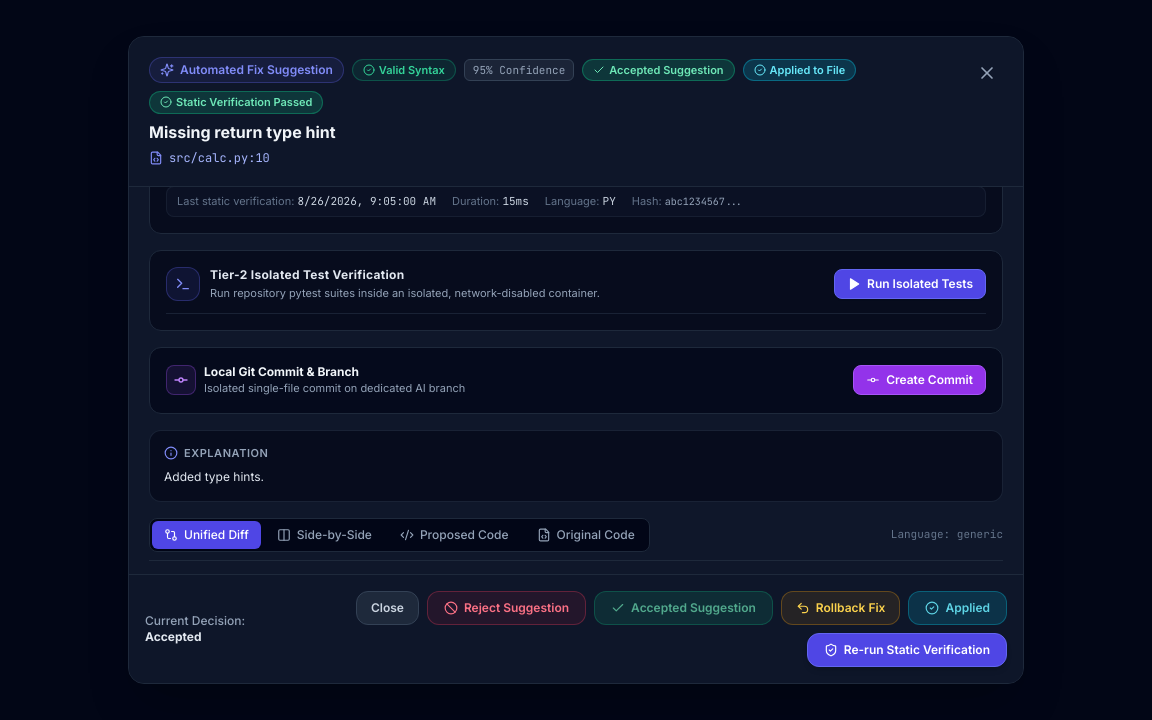
Test: Phase 11.5B-3 — Local Git Commit Frontend UI › 11. Stale Source Error: 409 stale source displays Source Changed Since Apply
(page scrolled)
Click the button with id "btn-open-create-commit": (920, 380) [853,365,986,395]
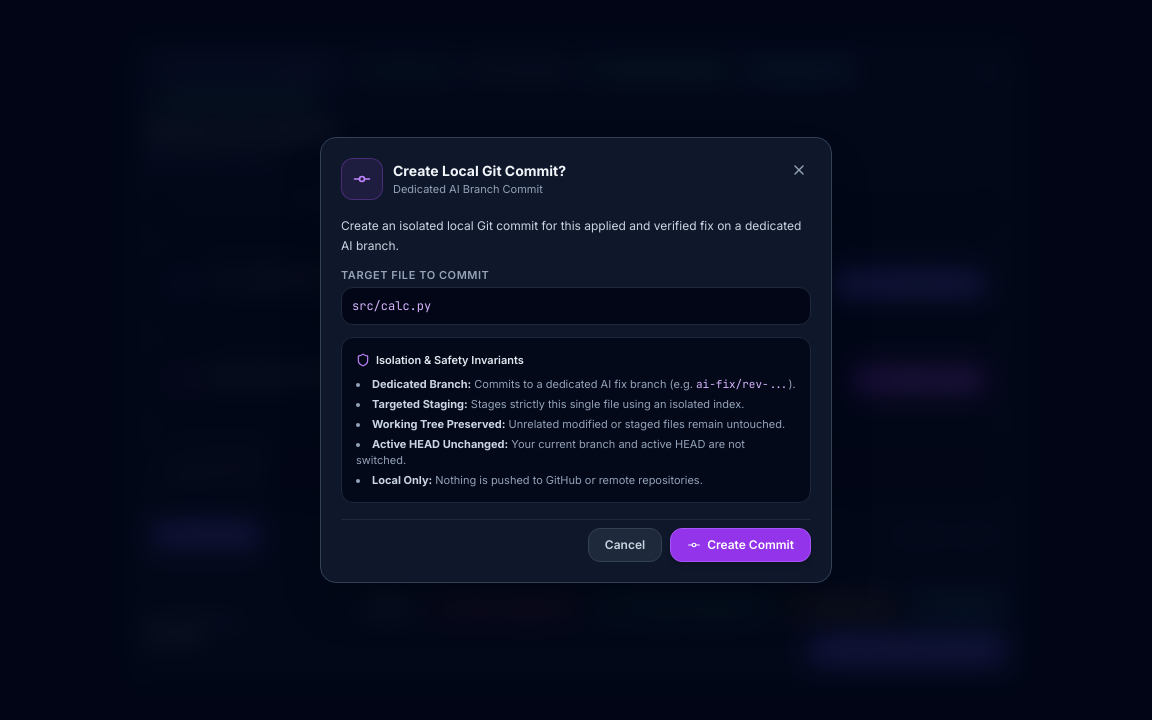
Click the button with id "btn-confirm-commit": (741, 545) [670,528,811,562]
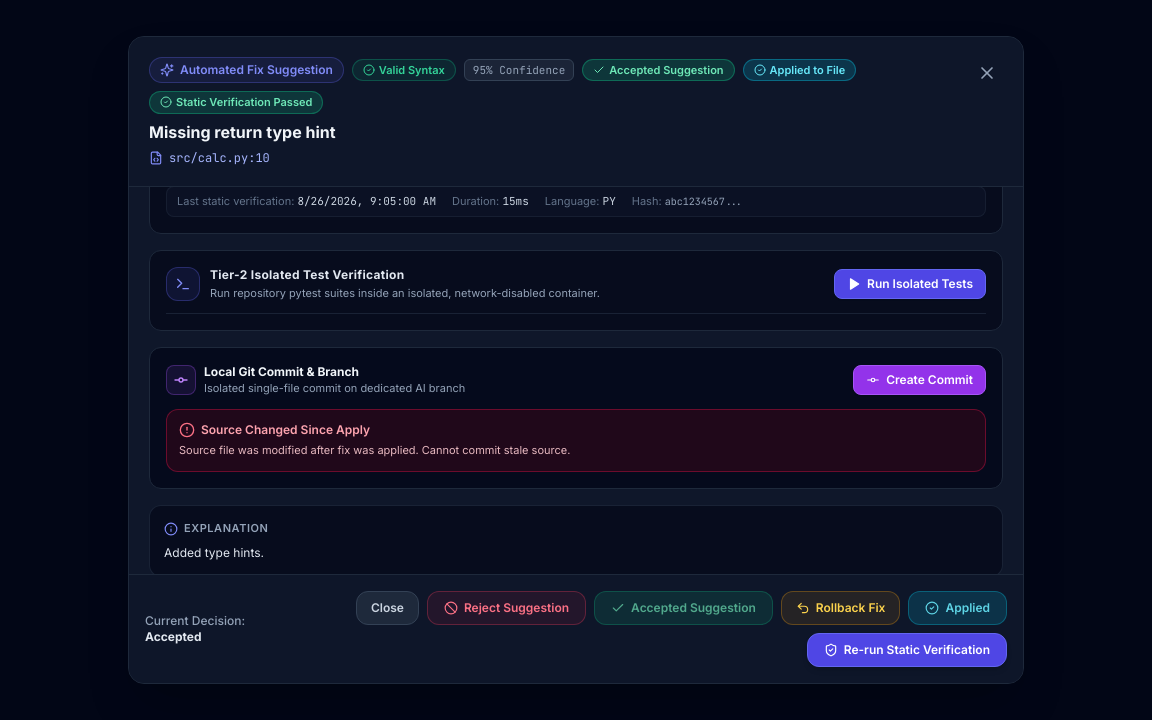
Now the text "Source Changed Since Apply" is shown, box [201,422,370,438]
